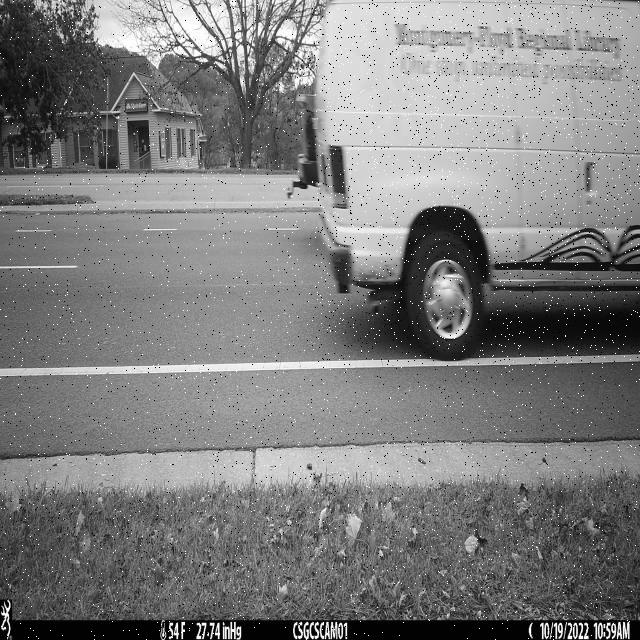Van: (315, 0, 640, 362)
